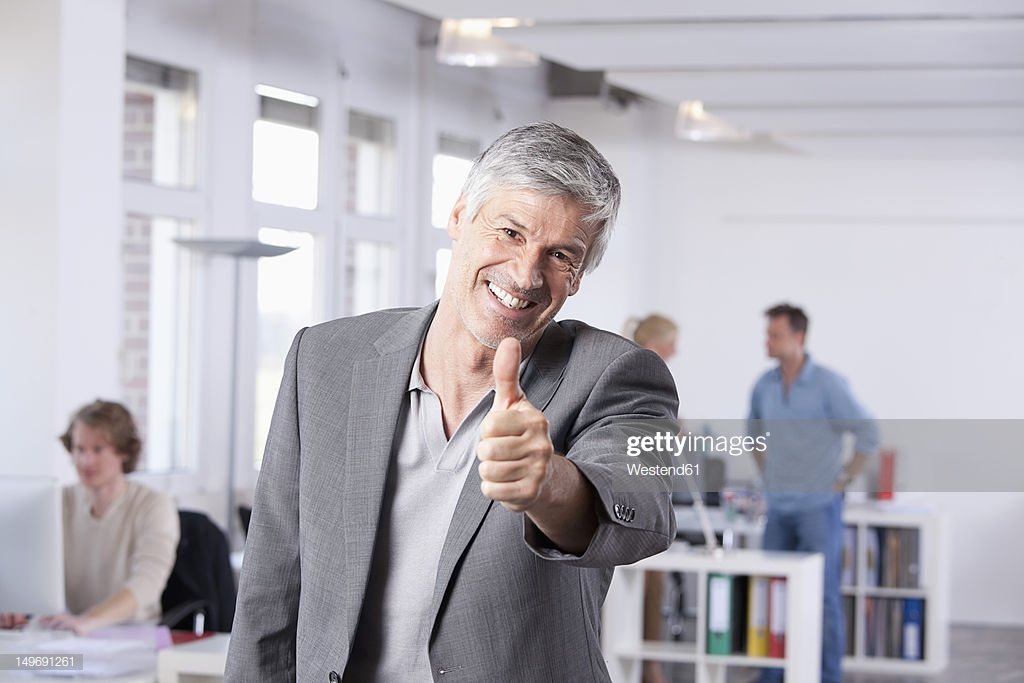thumbsup: (475, 337, 555, 504)
